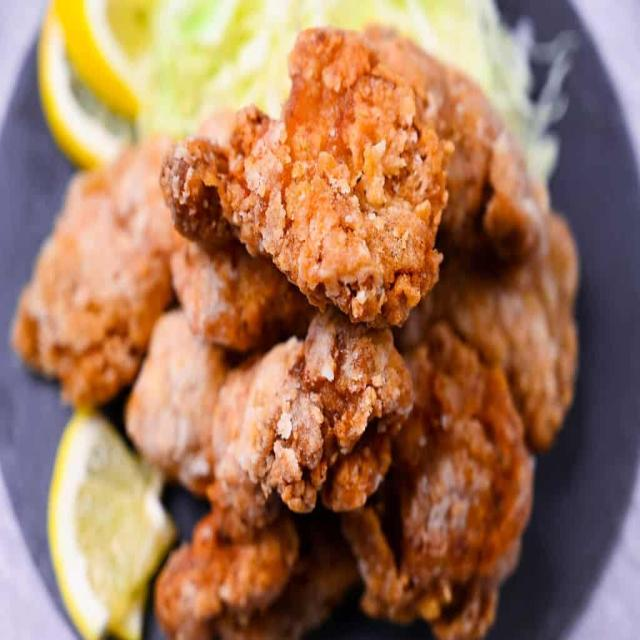Frango: (0, 20, 579, 640)
